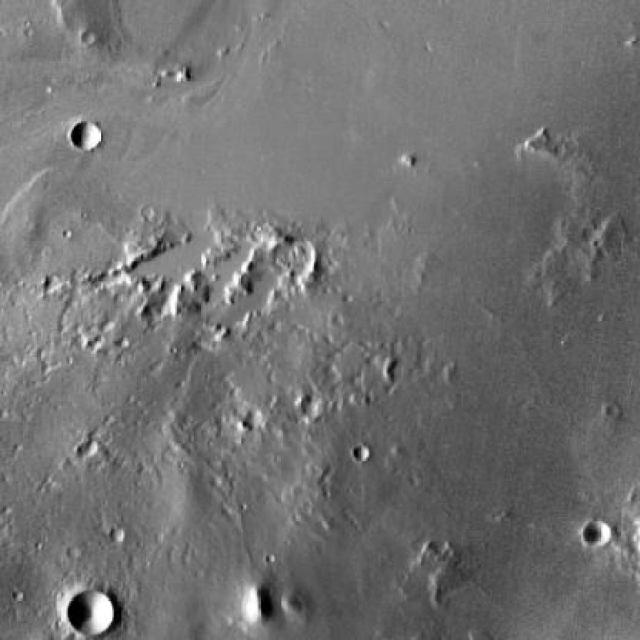crater: (69, 592, 114, 636), (583, 520, 612, 548), (73, 121, 102, 148), (353, 443, 370, 460), (245, 410, 262, 427)
